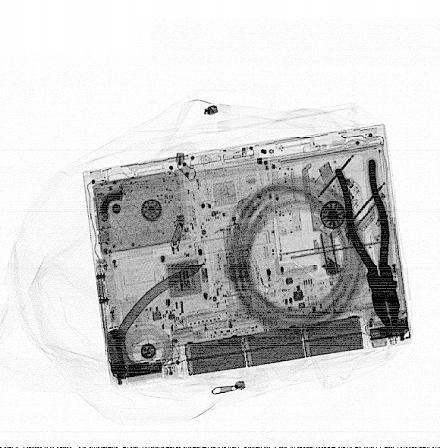Pliers: (332, 156, 401, 331)
